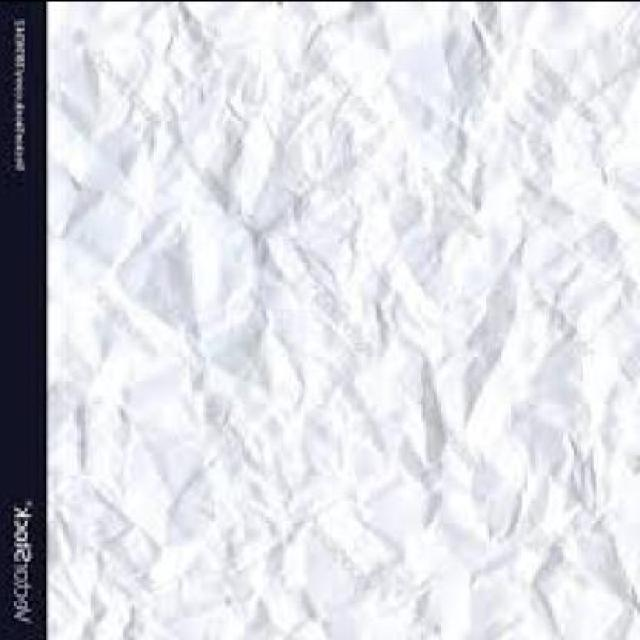PAPER: (49, 1, 640, 638)
